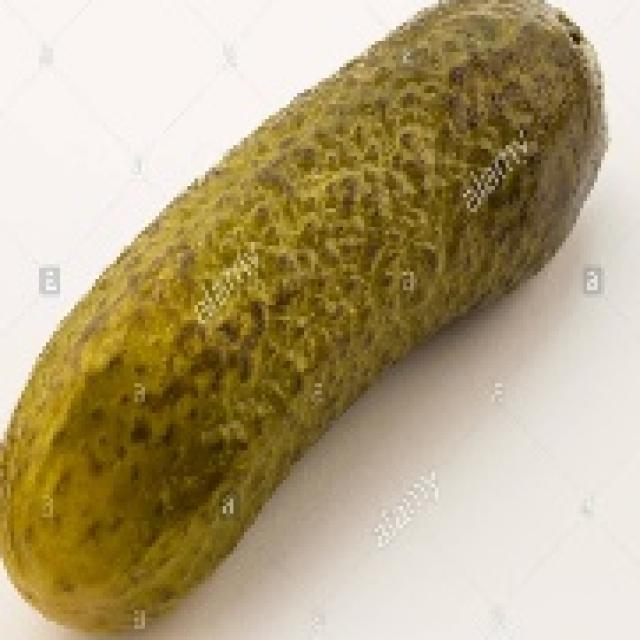cucumber: (0, 0, 608, 629)
